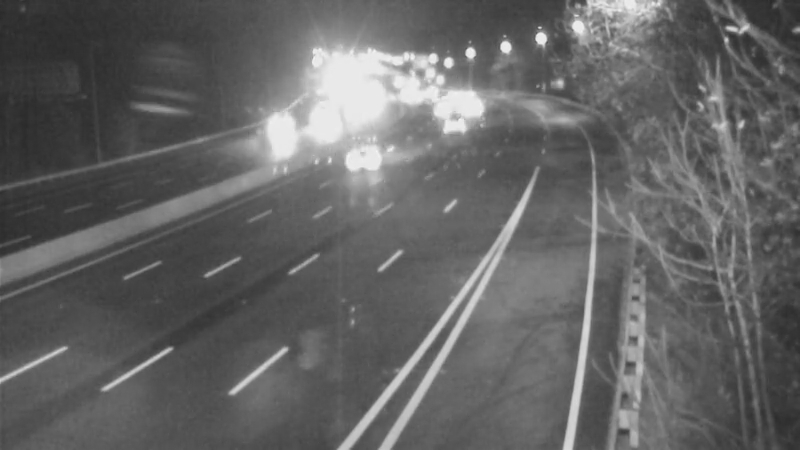vehicle: (334, 112, 414, 192), (430, 74, 480, 124), (444, 85, 494, 135), (408, 84, 458, 134), (429, 102, 479, 152), (252, 112, 302, 162), (299, 96, 349, 146)
